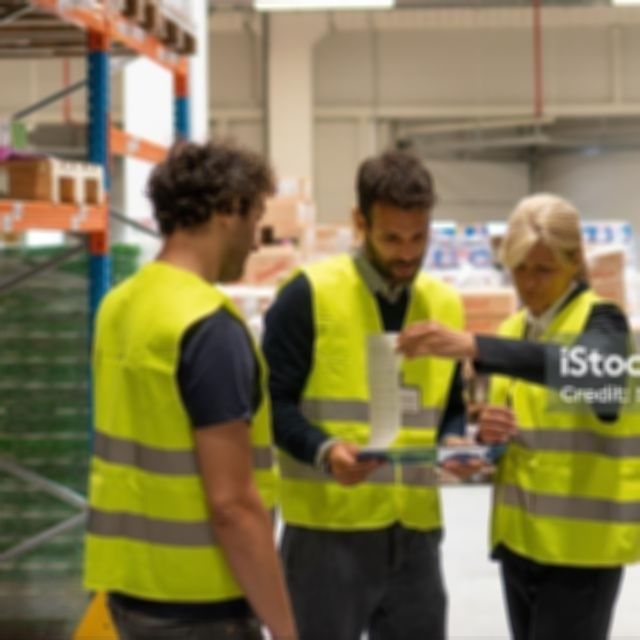Con_Chaleco: (81, 264, 271, 597), (277, 254, 448, 531)
Sin_Casco_Mascarrilla: (147, 134, 271, 277), (360, 149, 439, 283)
